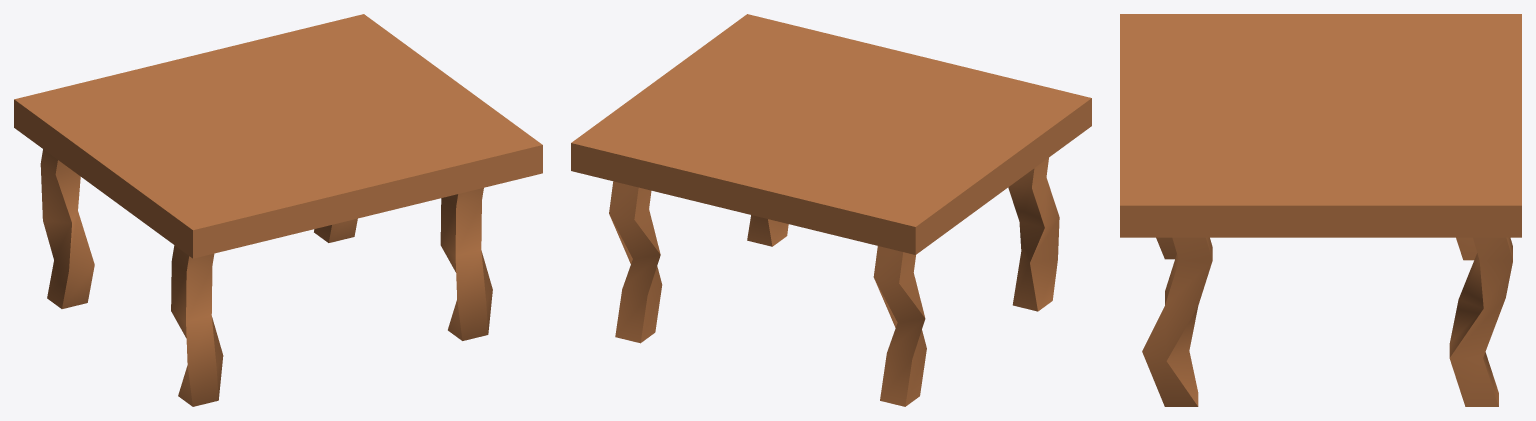
The model's file is mesa.fbx.
3 renders of one model, left to right at view 1: azimuth 30°, elevation 25°; view 2: azimuth 150°, elevation 25°; view 3: azimuth 270°, elevation 25°, orthographic. The views are drawn at different scales.
Visible parts, largest first — view 1: pCube1, pCube4, pCube5, pCube2, pCube3; view 2: pCube1, pCube3, pCube5, pCube4, pCube2; view 3: pCube1, pCube3, pCube2, pCube5.
Boxes of the visible parts, x1,y1,x2,y2 form: pCube1: (14, 14, 542, 258); pCube4: (171, 245, 223, 406); pCube5: (40, 149, 94, 308); pCube2: (440, 188, 492, 340); pCube3: (314, 218, 357, 242); pCube1: (571, 14, 1091, 254); pCube3: (609, 181, 662, 343); pCube5: (873, 246, 926, 406); pCube4: (1008, 158, 1059, 311); pCube2: (747, 215, 788, 246); pCube1: (1120, 14, 1521, 237); pCube3: (1449, 237, 1512, 406); pCube2: (1142, 237, 1212, 406); pCube5: (1456, 237, 1477, 260).
Size of the model in its own units: 5.57 by 2.98 by 4.93.
